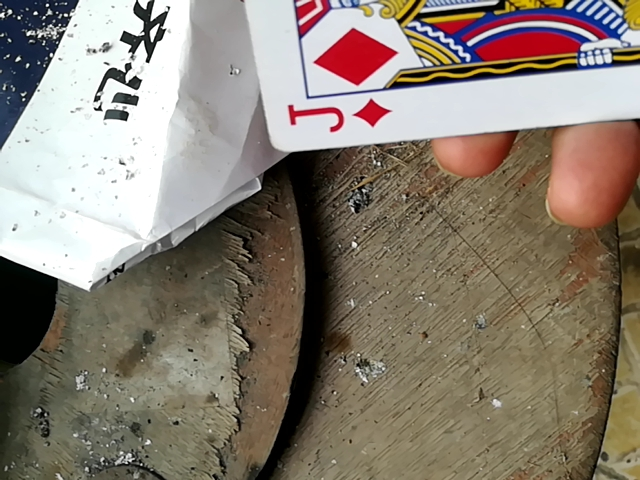fk j: (230, 0, 638, 149)
